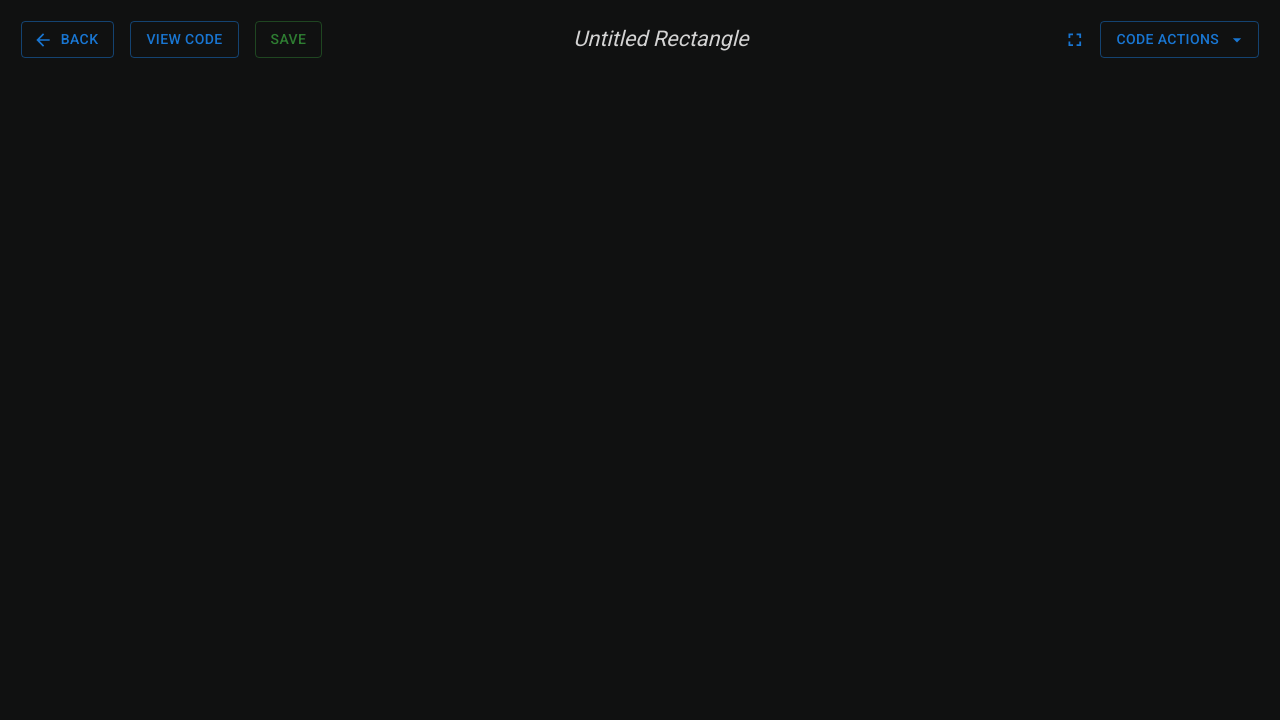
Test: Button Click Tests › Clicking the show code button changes its text
What coordinates should you click on to do the following:
click the button with id "show-code-button"
I would click on:
 (184, 40)
Its box is [130,21,239,58].
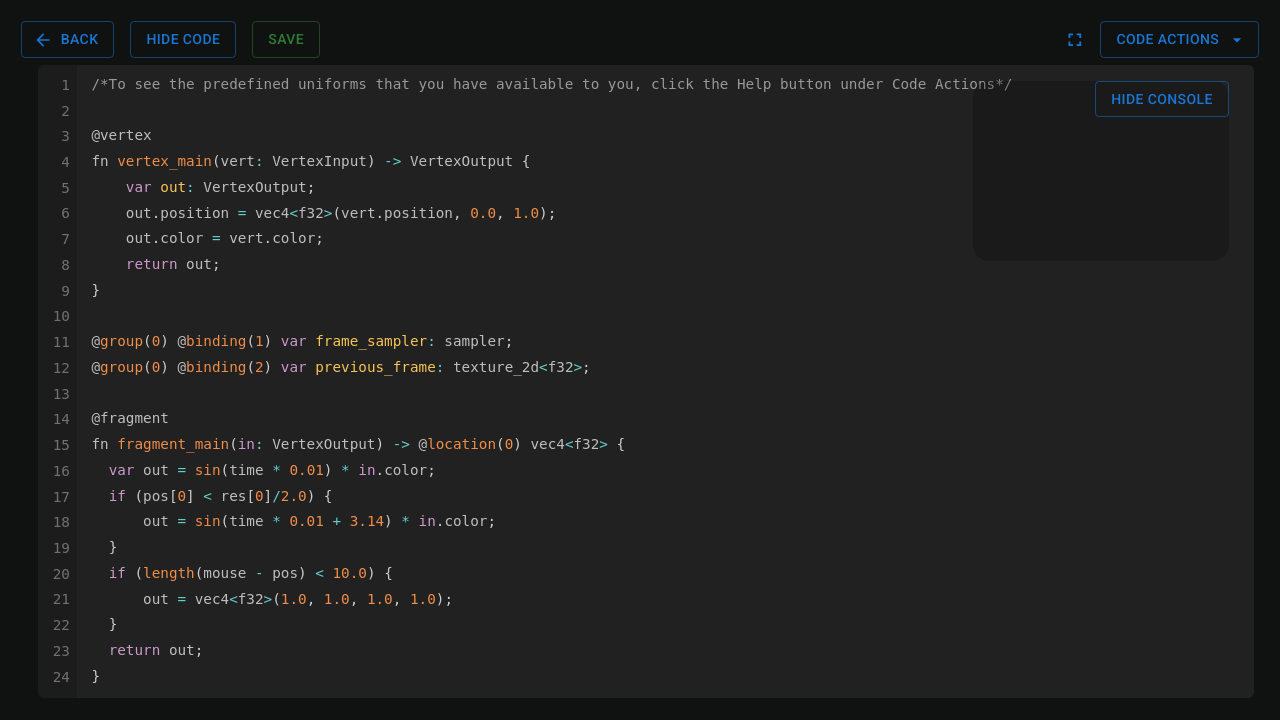
Now the button with id "show-code-button" reads "Hide Code", box [130,21,236,58]
